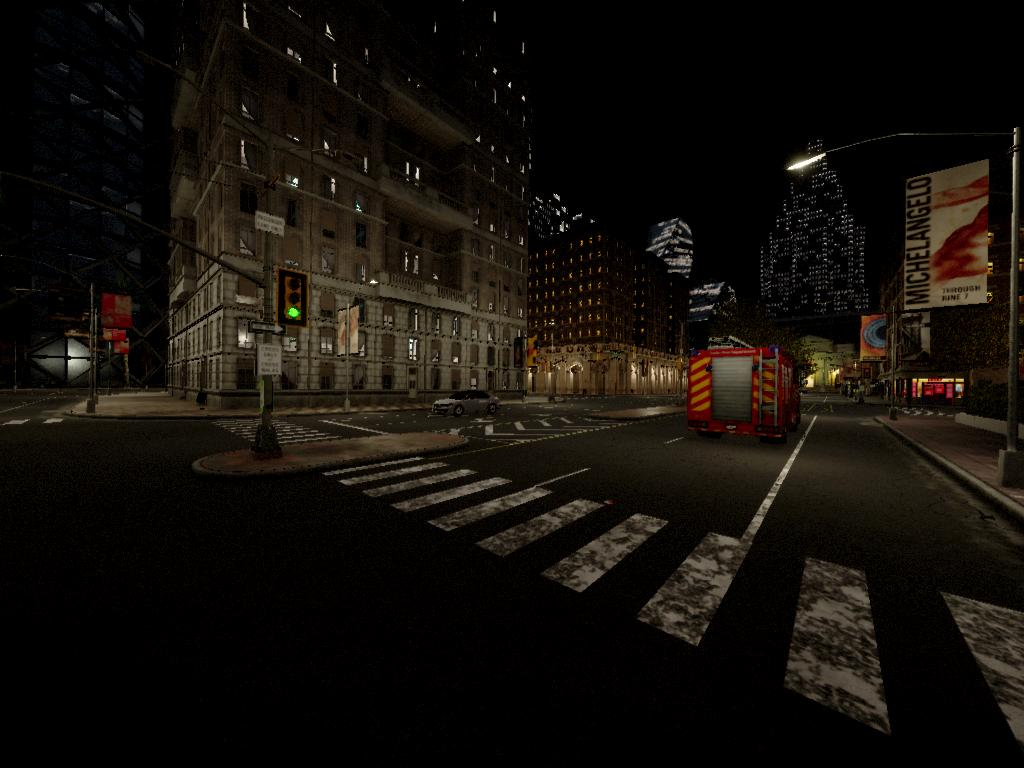traffic_light: (282, 270, 311, 326)
